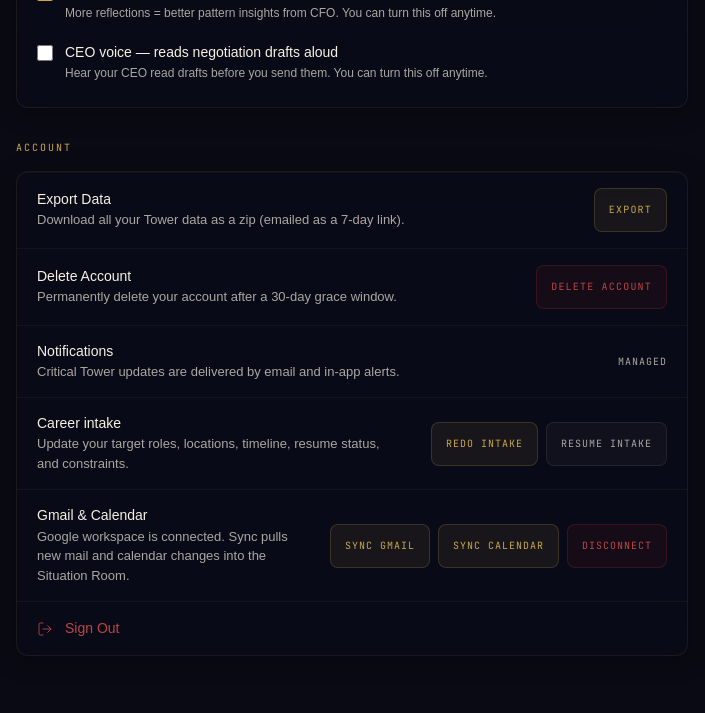
Test case: SettingsClient connected services › surfaces a specific Google reconnect message when manual sync has no token
(page scrolled)
Click the button "Sync Gmail".
click(380, 546)  # box [330, 524, 430, 568]
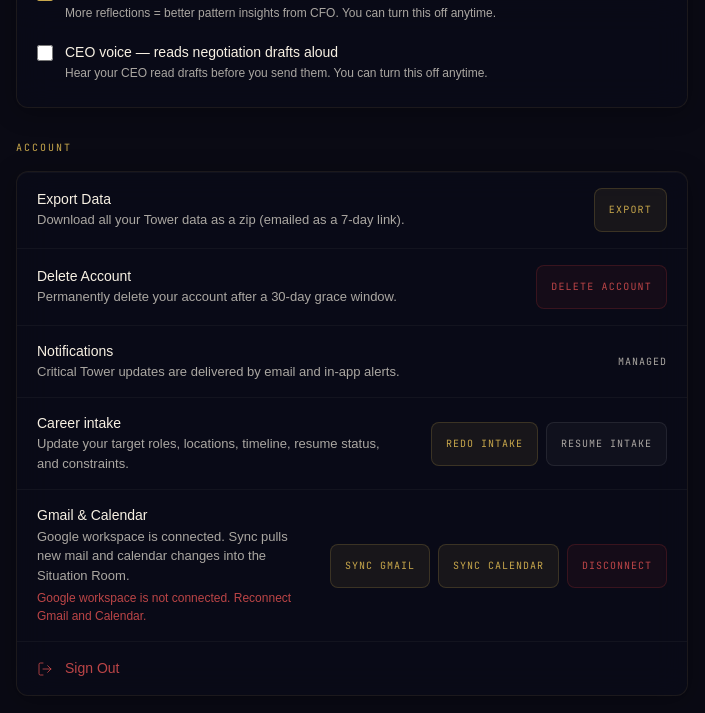
Expected: the text "Google workspace is not connected. Reconnect Gmail and Calendar." is shown, [37, 589, 314, 625]
